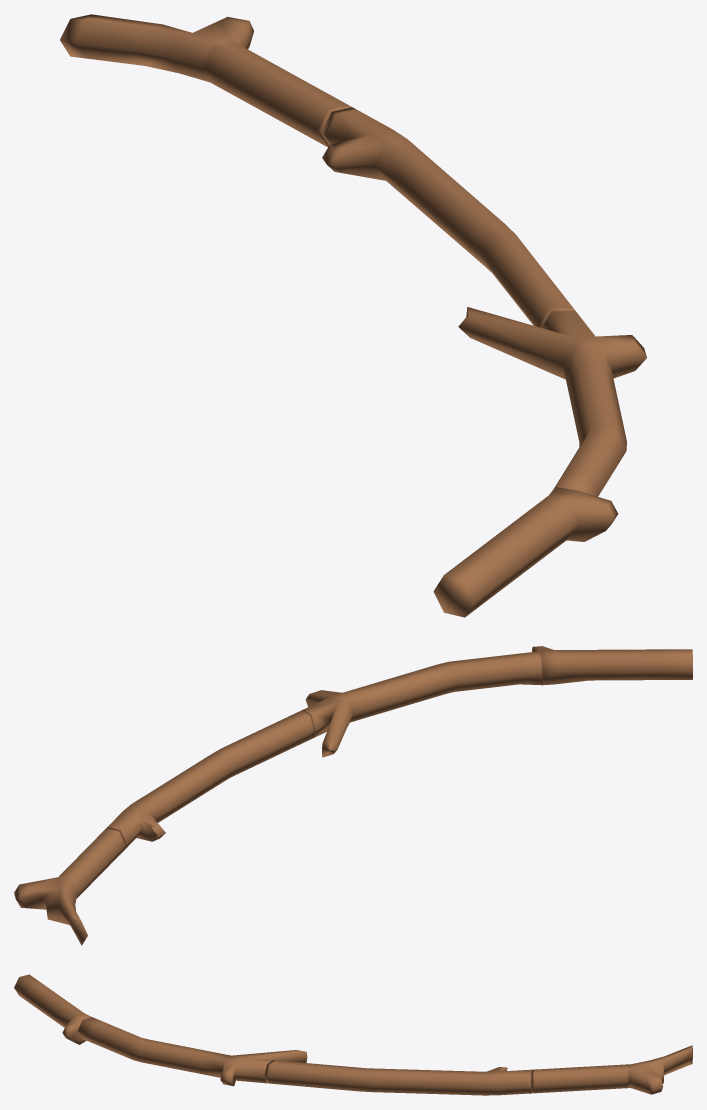
The model's file is StickCurved_Export.fbx.
The picture shows the model from 3 angles, top to bottom: view 1: azimuth 30°, elevation 25°; view 2: azimuth 150°, elevation 25°; view 3: azimuth 270°, elevation 25°; orthographic projection. The views are drawn at different scales.
Visible parts, largest first — view 1: Stick_Bit_08, Stick_Bit_11, Stick_Bit_09, Stick_Bit_10; view 2: Stick_Bit_09, Stick_Bit_08, Stick_Bit_10, Stick_Bit_11; view 3: Stick_Bit_08, Stick_Bit_09, Stick_Bit_11, Stick_Bit_10.
Part boxes in pixels (x1,y1,x2,y2): Stick_Bit_08: (321,107,575,327); Stick_Bit_11: (60,14,351,147); Stick_Bit_09: (458,307,646,496); Stick_Bit_10: (433,487,618,617); Stick_Bit_09: (304,651,542,757); Stick_Bit_08: (107,709,315,853); Stick_Bit_10: (532,646,692,685); Stick_Bit_11: (14,827,126,945); Stick_Bit_08: (264,1060,531,1095); Stick_Bit_09: (78,1017,307,1086); Stick_Bit_11: (531,1045,692,1094); Stick_Bit_10: (14,974,91,1044).
Size of the model in its own units: 10.01 by 1 by 26.79.
